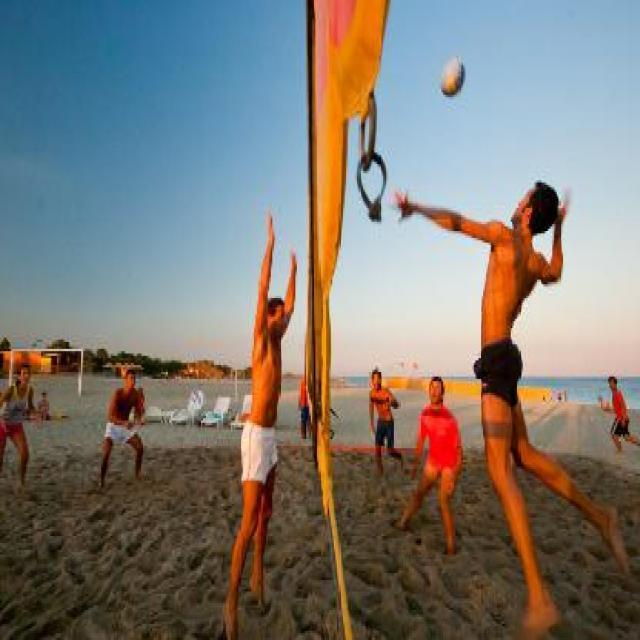volleyball: (438, 56, 467, 94)
